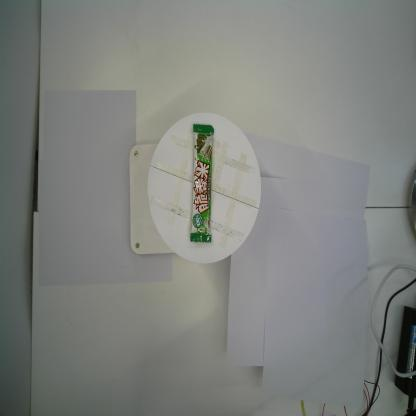Chocolate: (189, 122, 216, 245)
